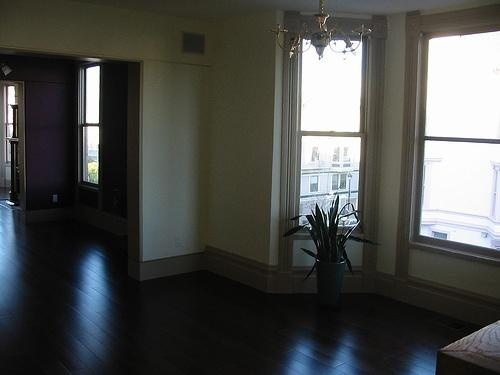pottedplant: (283, 192, 380, 307)
